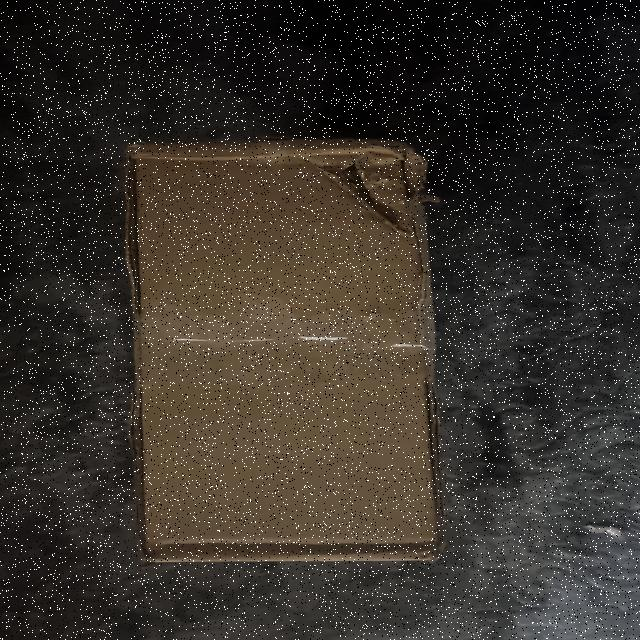damaged: (118, 133, 472, 582), (290, 135, 446, 253)
